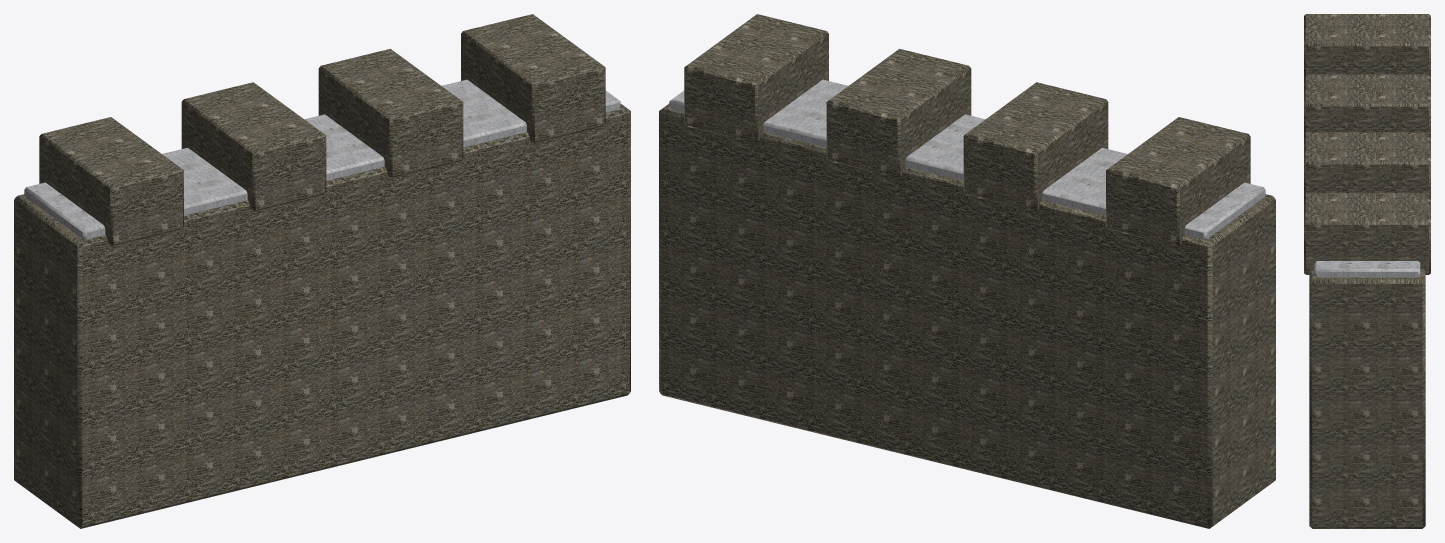
Rendered from env_keep_wall.glb.
3 renders of one model, left to right at view 1: azimuth 30°, elevation 25°; view 2: azimuth 150°, elevation 25°; view 3: azimuth 270°, elevation 25°, orthographic. The views are drawn at different scales.
Parts seen in each view (by area): view 1: ENV_Frostheim_KeepWall; view 2: ENV_Frostheim_KeepWall; view 3: ENV_Frostheim_KeepWall.
Boxes of the visible parts, bbox=[...] form: ENV_Frostheim_KeepWall: bbox=[14, 14, 630, 528]; ENV_Frostheim_KeepWall: bbox=[659, 14, 1275, 528]; ENV_Frostheim_KeepWall: bbox=[1304, 14, 1430, 528].
Size of what is drawn, in the model's own units: 10.5 by 6.15 by 2.4.
Materials: 2 (2 with a texture image).
